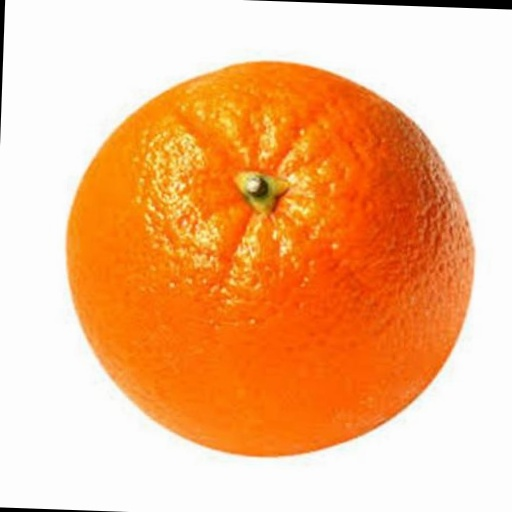fruit: (67, 63, 472, 455)
